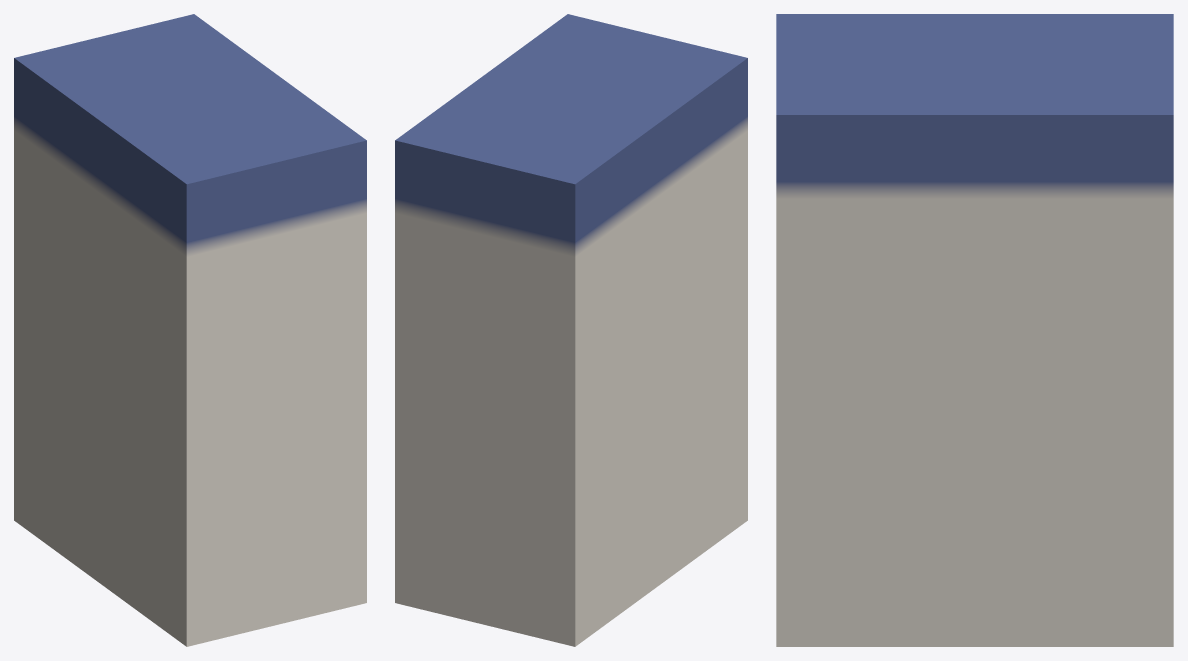
File: Itr_Obj_Book3_06.FBX
3 renders of one model, left to right at view 1: azimuth 30°, elevation 25°; view 2: azimuth 150°, elevation 25°; view 3: azimuth 270°, elevation 25°, orthographic. The views are drawn at different scales.
Visible parts, largest first — view 1: Itr_Obj_Book3_06; view 2: Itr_Obj_Book3_06; view 3: Itr_Obj_Book3_06.
Part boxes in pixels (<box>): Itr_Obj_Book3_06: <box>14,14,366,646</box>; Itr_Obj_Book3_06: <box>395,14,747,646</box>; Itr_Obj_Book3_06: <box>776,14,1173,646</box>.
Size of the model in its own units: 3.41 by 8.38 by 5.67.
